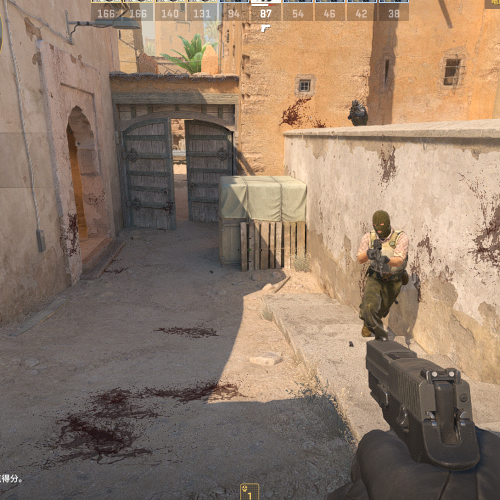ct_body: (349, 98, 368, 126)
ct_head: (352, 99, 359, 109)
t_body: (354, 211, 409, 342)
t_head: (370, 211, 391, 235)
